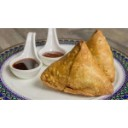samosa: (39, 40, 114, 94), (87, 26, 118, 81)
